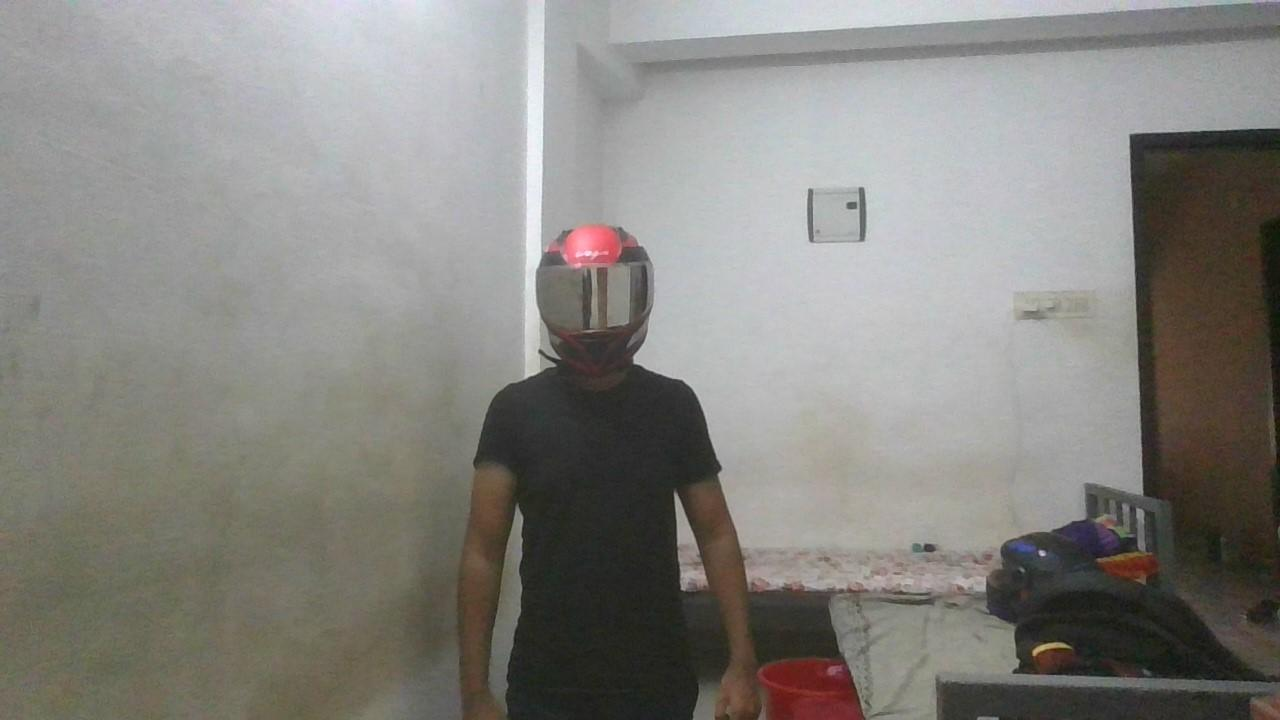helmet: (534, 222, 657, 380)
